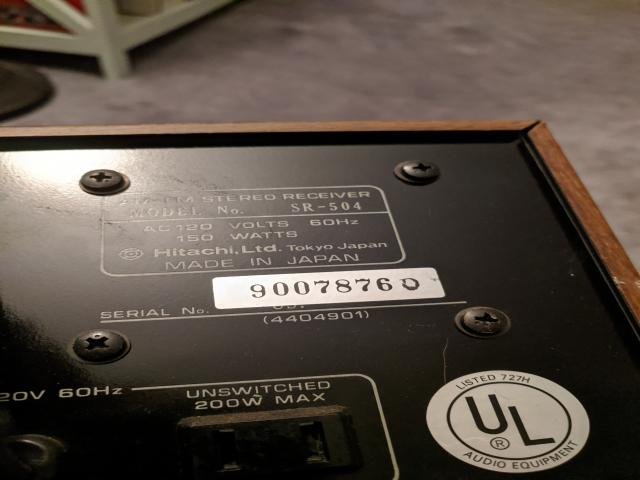CRS: (73, 330, 130, 362), (456, 308, 510, 337), (79, 170, 128, 193), (396, 160, 442, 183)
